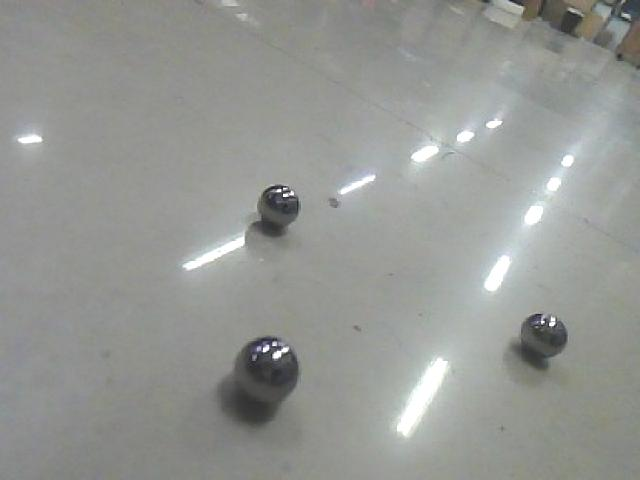steel-ball: (216, 320, 310, 402), (506, 290, 569, 372), (244, 168, 316, 228)
